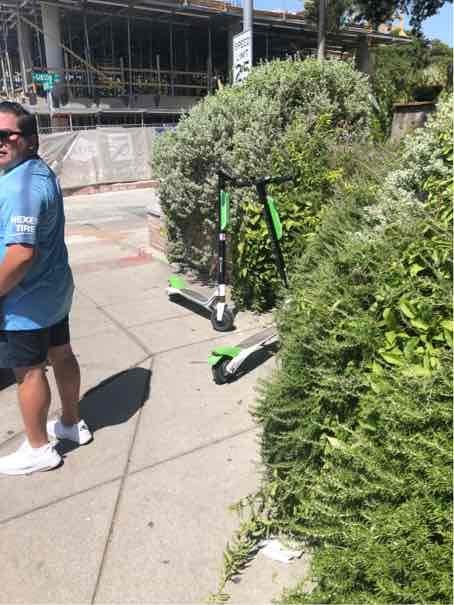scooter: (210, 164, 310, 389), (166, 156, 248, 334)
